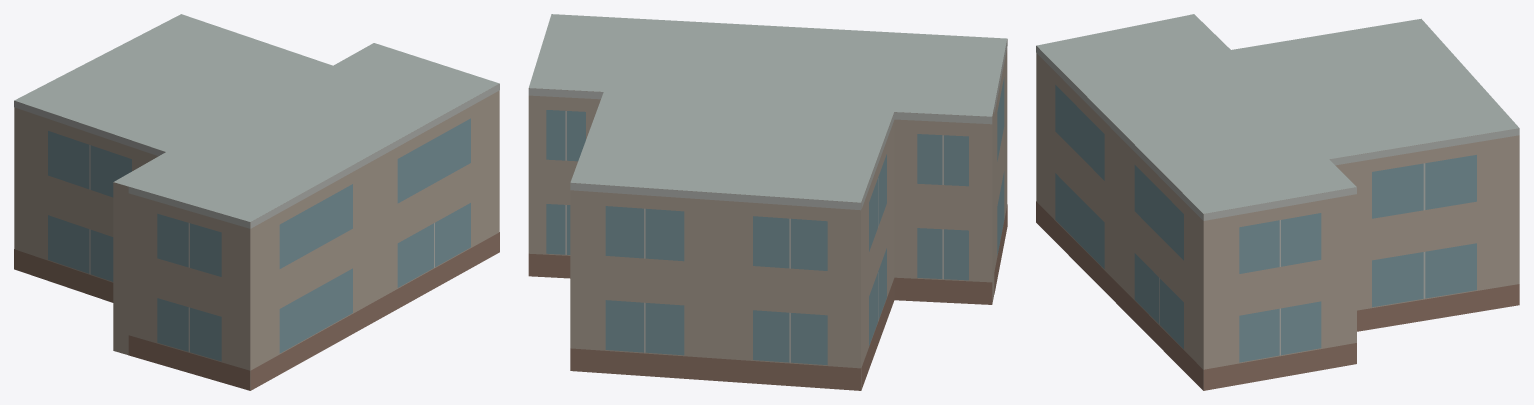
File: survey-upis-32852110.glb
3 renders of one model, left to right at view 1: azimuth 30°, elevation 25°; view 2: azimuth 150°, elevation 25°; view 3: azimuth 270°, elevation 25°, orthographic. The views are drawn at different scales.
Visible parts, largest first — view 1: survey-upis-32852110.tmp; view 2: survey-upis-32852110.tmp; view 3: survey-upis-32852110.tmp.
Boxes of the visible parts, x1,y1,x2,y2 form: survey-upis-32852110.tmp: [14, 14, 499, 390]; survey-upis-32852110.tmp: [528, 14, 1007, 390]; survey-upis-32852110.tmp: [1036, 14, 1519, 390].
Size of the model in its own units: 14.79 by 6.1 by 15.11.
